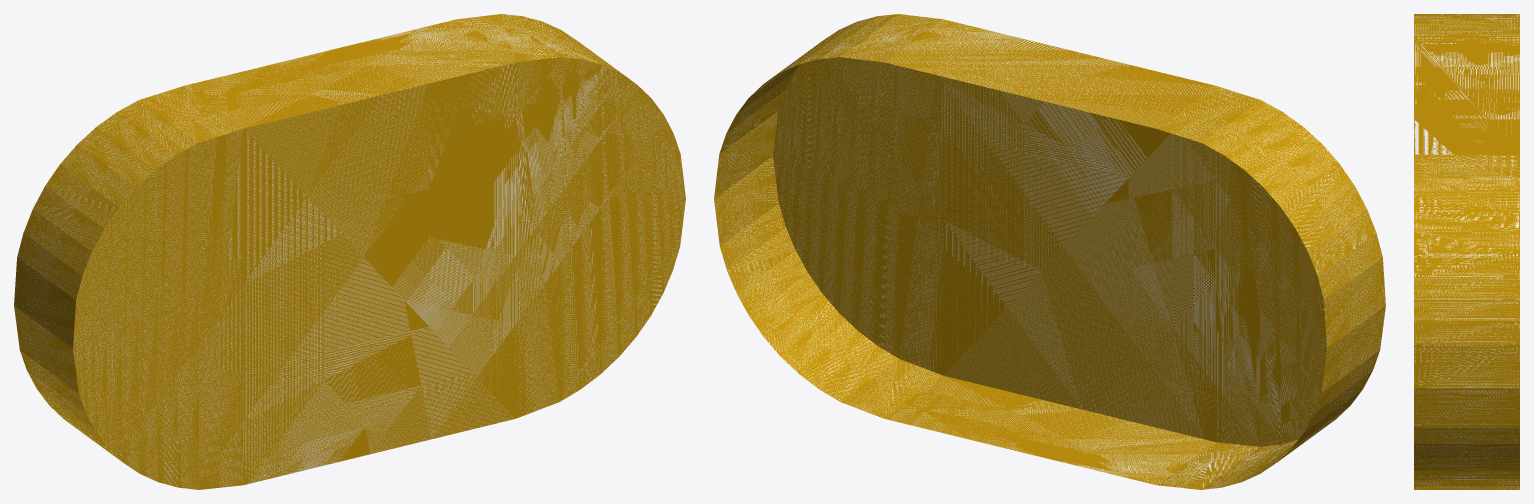
Rendered from original-37.obj.
The picture shows the model from 3 angles, left to right: view 1: azimuth 30°, elevation 25°; view 2: azimuth 150°, elevation 25°; view 3: azimuth 270°, elevation 25°; orthographic projection. The views are drawn at different scales.
Parts seen in each view (by area): view 1: mesh9/mesh9-geometry/material_0/component_24#mesh9-geometry; view 2: mesh9/mesh9-geometry/material_0/component_24#mesh9-geometry; view 3: mesh9/mesh9-geometry/material_0/component_24#mesh9-geometry.
Boxes of the visible parts, x1,y1,x2,y2 form: mesh9/mesh9-geometry/material_0/component_24#mesh9-geometry: [14, 14, 685, 489]; mesh9/mesh9-geometry/material_0/component_24#mesh9-geometry: [714, 14, 1385, 489]; mesh9/mesh9-geometry/material_0/component_24#mesh9-geometry: [1414, 14, 1519, 489].
Size of the model in its own units: 0.091 by 0.0506 by 0.0152.
